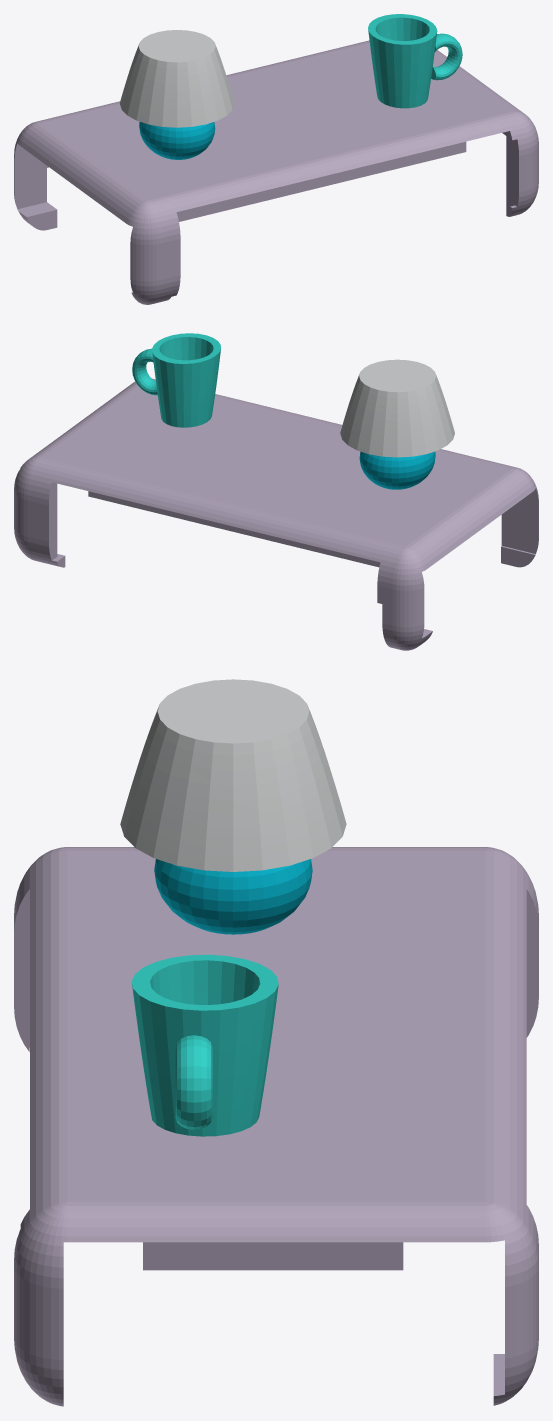
Rendered from Table Model(1).glb.
3 renders of one model, top to bottom at view 1: azimuth 30°, elevation 25°; view 2: azimuth 150°, elevation 25°; view 3: azimuth 270°, elevation 25°, orthographic. The views are drawn at different scales.
Visible parts, largest first — view 1: Mesh_Mesh_head_geo.001_lambert2SG.001; view 2: Mesh_Mesh_head_geo.001_lambert2SG.001; view 3: Mesh_Mesh_head_geo.001_lambert2SG.001.
Part boxes in pixels (x1,y1,x2,y2): Mesh_Mesh_head_geo.001_lambert2SG.001: (14,14,538,304); Mesh_Mesh_head_geo.001_lambert2SG.001: (14,333,538,650); Mesh_Mesh_head_geo.001_lambert2SG.001: (14,679,538,1406).
Bounding box in the file's own units: 82.47 × 40 × 46.4.
